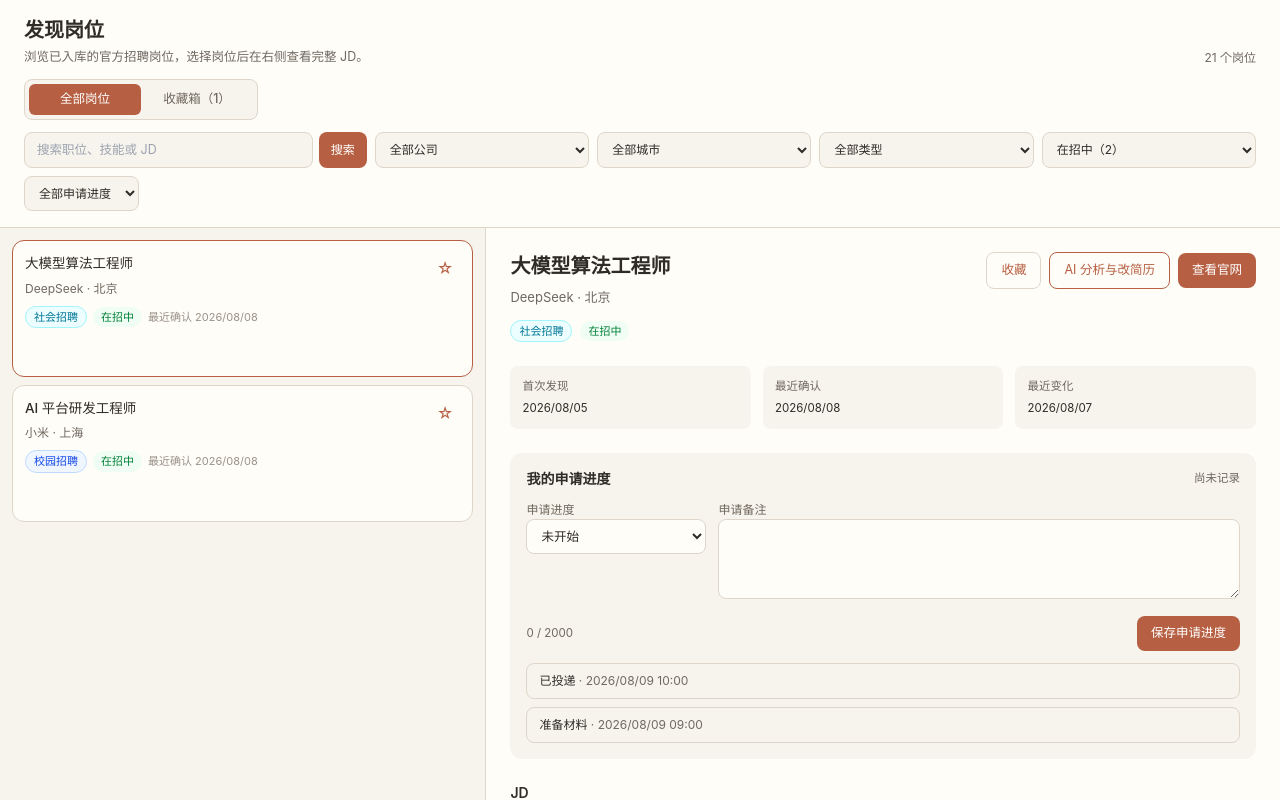
Test case: CareerJobsView › favorites without switching detail and rolls back on failure
This screenshot has width=1280, height=800.
Expected: the text "大模型算法工程师" is shown, [25, 255, 133, 271]
Click the button named "收藏岗位：AI 平台研发工程师".
click(445, 413)  # box [429, 397, 461, 429]
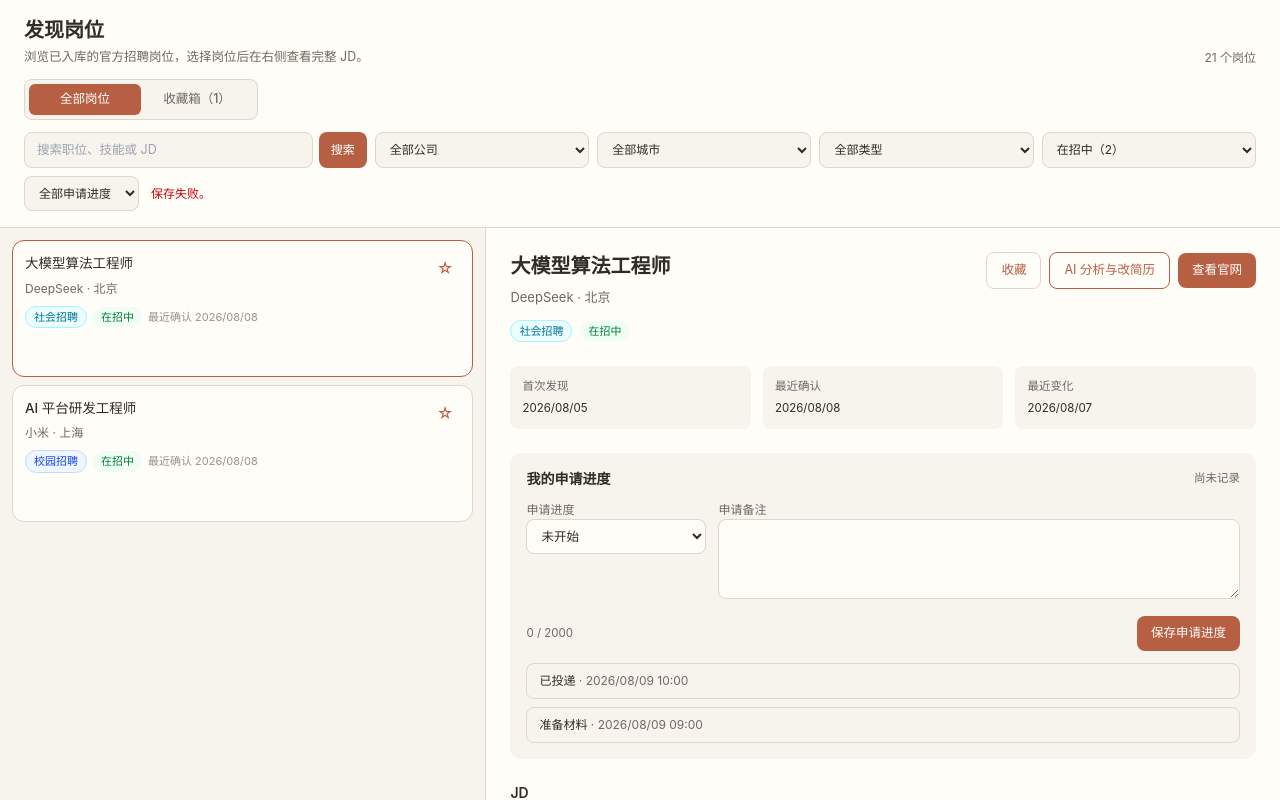
Expected: the text "保存失败。" is shown, [151, 185, 211, 203]
